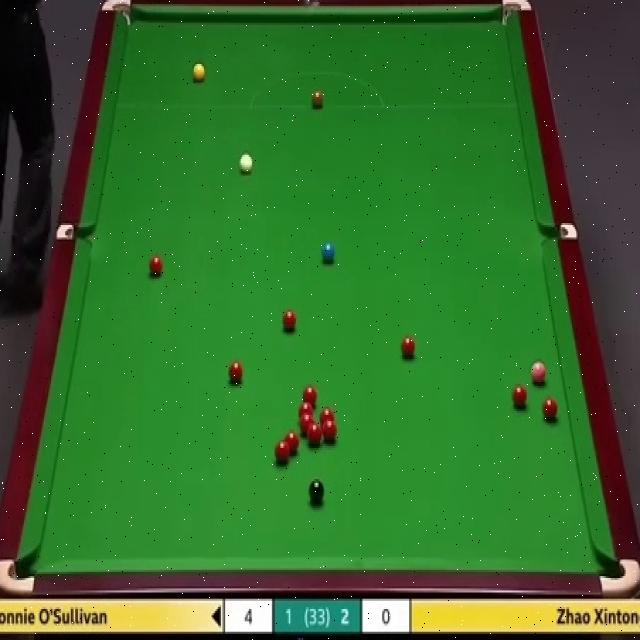black-ball: (308, 479, 325, 501)
blue-ball: (320, 242, 337, 264)
brown-ball: (310, 89, 324, 109)
pink-ball: (530, 361, 548, 385)
red-ball: (512, 382, 528, 409), (541, 396, 558, 421), (399, 334, 416, 358), (284, 430, 300, 455), (282, 308, 297, 333), (323, 418, 337, 443), (276, 439, 290, 464), (228, 359, 243, 382), (308, 422, 322, 446), (302, 384, 317, 406), (148, 256, 163, 278), (300, 414, 314, 434), (297, 402, 313, 419), (319, 406, 336, 422)
white-ball: (239, 151, 254, 175)
yellow-ball: (192, 63, 205, 84)
